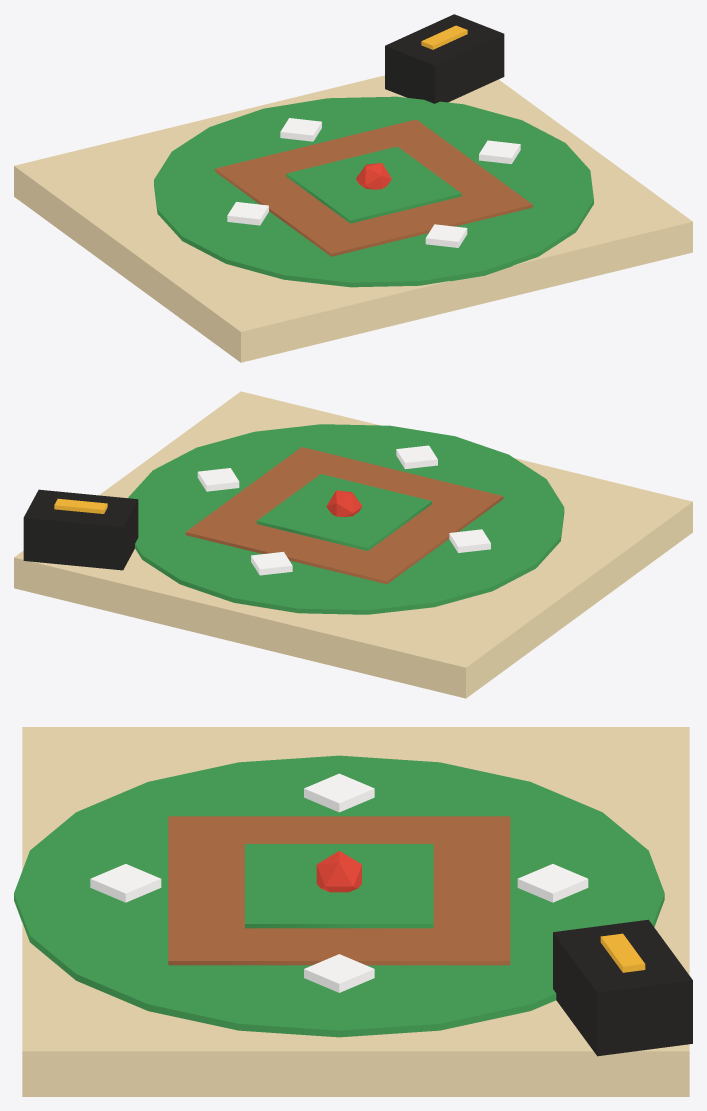
File: baseball.glb
3 views of the same model, one above another, from view 1: azimuth 30°, elevation 25°; view 2: azimuth 150°, elevation 25°; view 3: azimuth 270°, elevation 25° (orthographic). The views are drawn at different scales.
Bounding box in the file's own units: 4.67 × 0.76 × 4.07.
